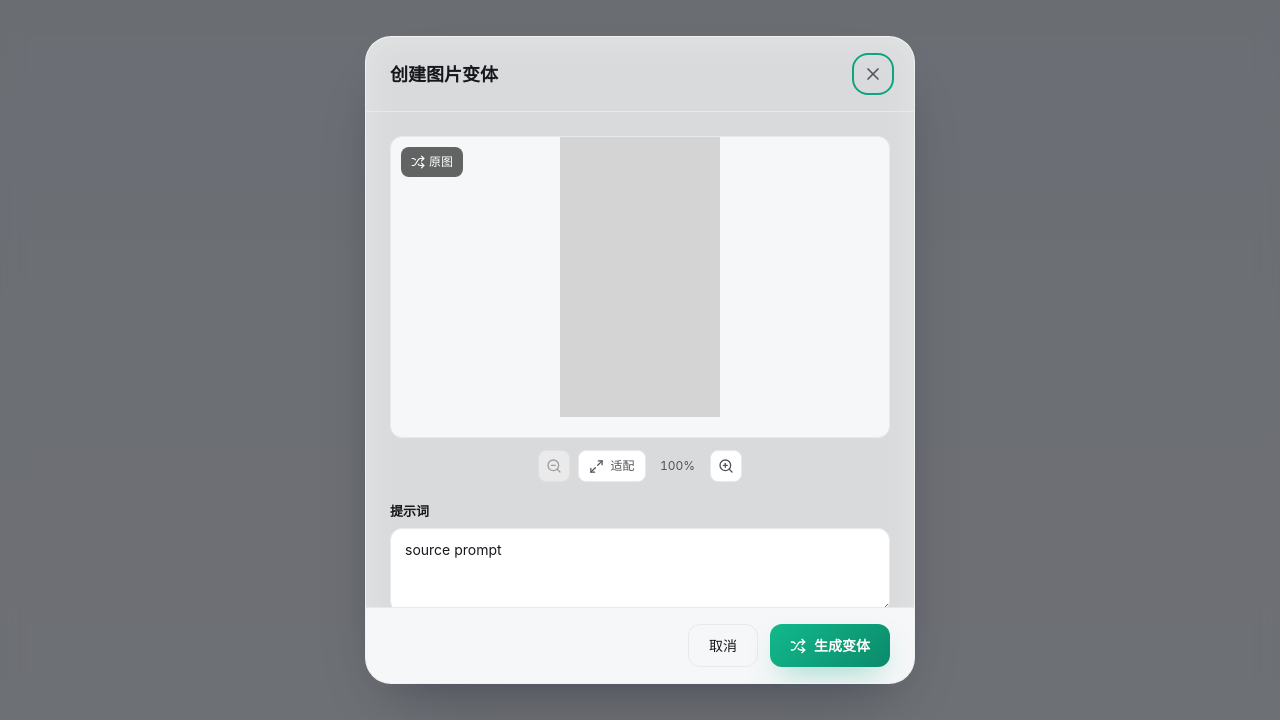
Test: VariationDialog image sizing › prompts before closing after changing variation settings
Replace the text in the text box with "changed prompt" at [640, 570], box [390,528,890,613]
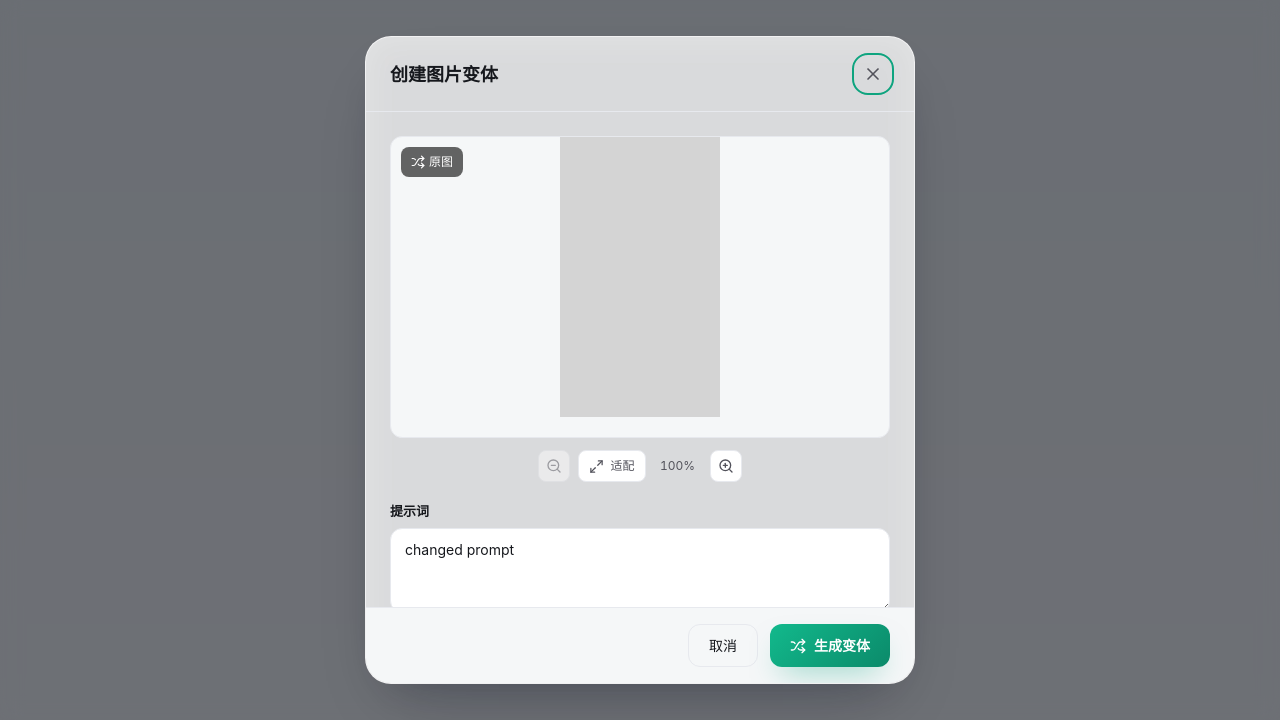
Click the button "取消" at [723, 646], box [688,624,758,667]
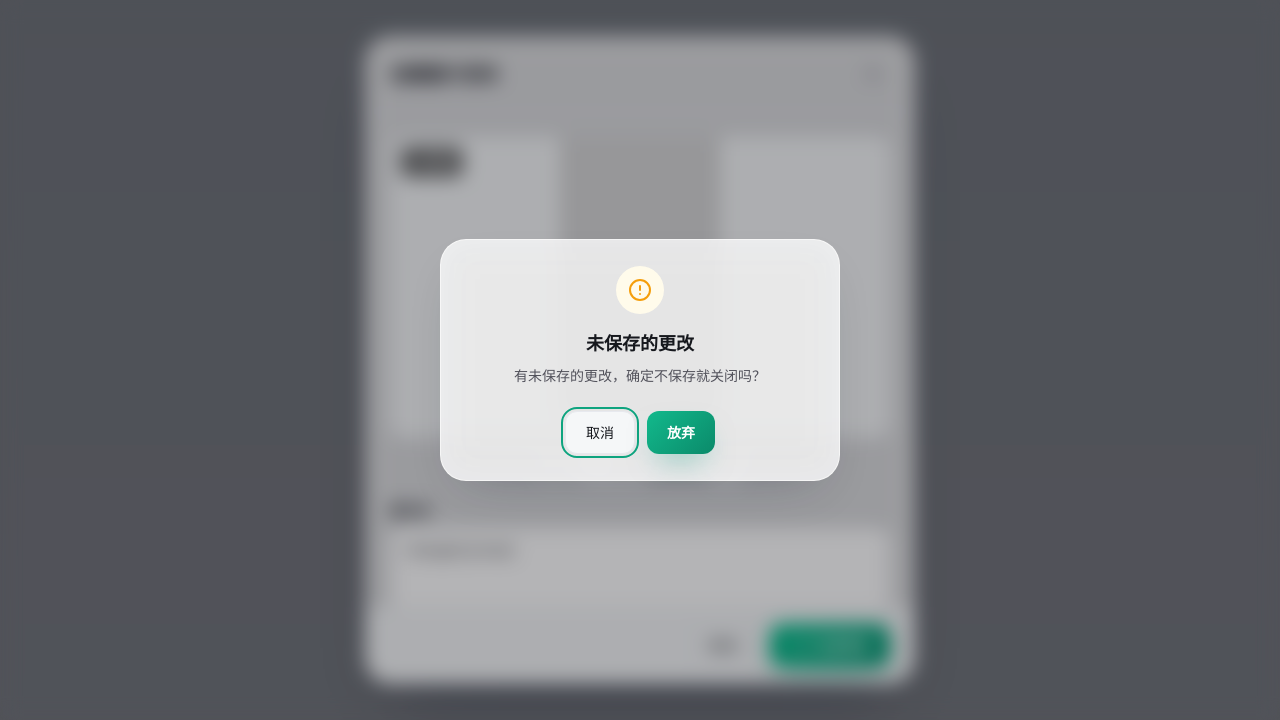
Expected: the text "未保存的更改" is shown, [586,333,694,354]
